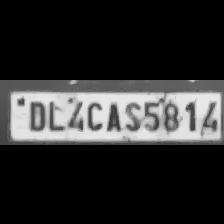1: (181, 99, 199, 133)
4: (196, 98, 220, 132), (64, 97, 84, 130)
5: (141, 98, 161, 132)
8: (160, 99, 180, 133)
A: (102, 100, 122, 132)
C: (83, 97, 103, 130)
D: (24, 97, 46, 130)
L: (44, 97, 64, 130)
S: (121, 98, 141, 132)
